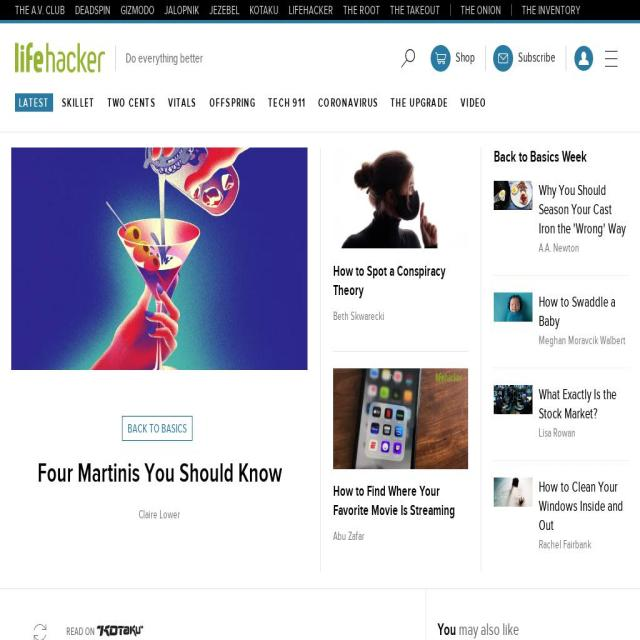button: (37, 458, 282, 492), (15, 23, 105, 94), (538, 477, 629, 535), (333, 261, 468, 300), (538, 181, 629, 238), (333, 482, 468, 520), (538, 292, 629, 331), (538, 385, 629, 423), (489, 40, 570, 77), (427, 40, 489, 77), (121, 416, 198, 442), (538, 238, 629, 258), (538, 331, 629, 351), (538, 424, 629, 444), (538, 535, 629, 555), (314, 93, 382, 112), (387, 93, 452, 112), (493, 292, 532, 322), (493, 181, 532, 210), (493, 385, 532, 414), (493, 478, 532, 507), (103, 93, 159, 112), (205, 93, 260, 112), (394, 40, 422, 77), (597, 40, 625, 77), (334, 306, 384, 326), (264, 93, 310, 112), (139, 505, 180, 526), (58, 93, 98, 112), (15, 93, 53, 112), (163, 93, 200, 112), (457, 93, 491, 112), (334, 526, 364, 546), (574, 46, 594, 71), (333, 368, 468, 368)
heading: (37, 458, 282, 492), (538, 477, 629, 535), (333, 261, 468, 300), (538, 181, 629, 238), (333, 482, 468, 520), (538, 292, 629, 331), (538, 385, 629, 423), (494, 148, 628, 168), (456, 620, 518, 640), (437, 620, 456, 640)
image: (11, 147, 308, 406), (333, 148, 468, 249), (333, 368, 468, 469), (15, 42, 127, 80), (97, 625, 230, 640), (493, 292, 532, 322), (493, 181, 532, 210), (493, 385, 532, 414), (493, 478, 532, 507), (400, 48, 416, 68), (604, 48, 618, 68), (33, 622, 48, 640), (578, 51, 590, 66), (435, 51, 446, 66), (498, 51, 508, 66)
link: (522, 4, 580, 18), (15, 4, 65, 18), (390, 4, 440, 18), (289, 4, 333, 18), (461, 4, 501, 18), (343, 4, 380, 18), (75, 4, 111, 18), (164, 4, 200, 18), (120, 4, 154, 18), (210, 4, 240, 18), (249, 4, 279, 18)
text: (115, 46, 203, 71), (121, 416, 192, 442), (538, 334, 626, 348), (318, 93, 379, 112), (391, 93, 448, 112), (106, 93, 156, 112), (209, 93, 256, 112), (518, 48, 556, 68), (538, 538, 591, 552), (268, 93, 306, 112), (334, 309, 384, 323), (61, 93, 95, 112), (139, 508, 180, 522), (19, 93, 49, 112), (167, 93, 197, 112), (538, 242, 580, 255), (461, 93, 487, 112), (538, 427, 576, 440), (66, 623, 95, 639), (334, 530, 364, 543), (456, 48, 475, 68)
